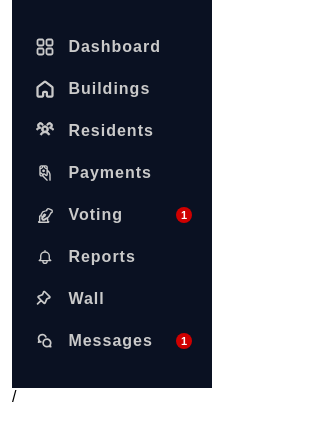
it: Sidebar for manager › should redirect to Messages Route when click on item with Messages label
Click the heading "Messages".
click(111, 341)  # box [68,330,153,352]
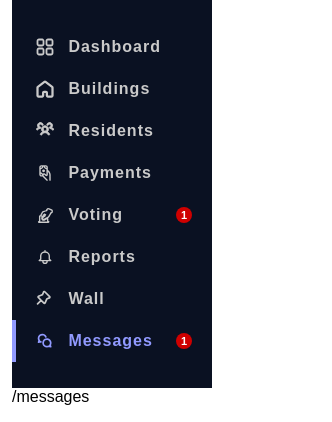
Expected: the text with test id "location-display" reads "/messages", [12,388,89,405]
